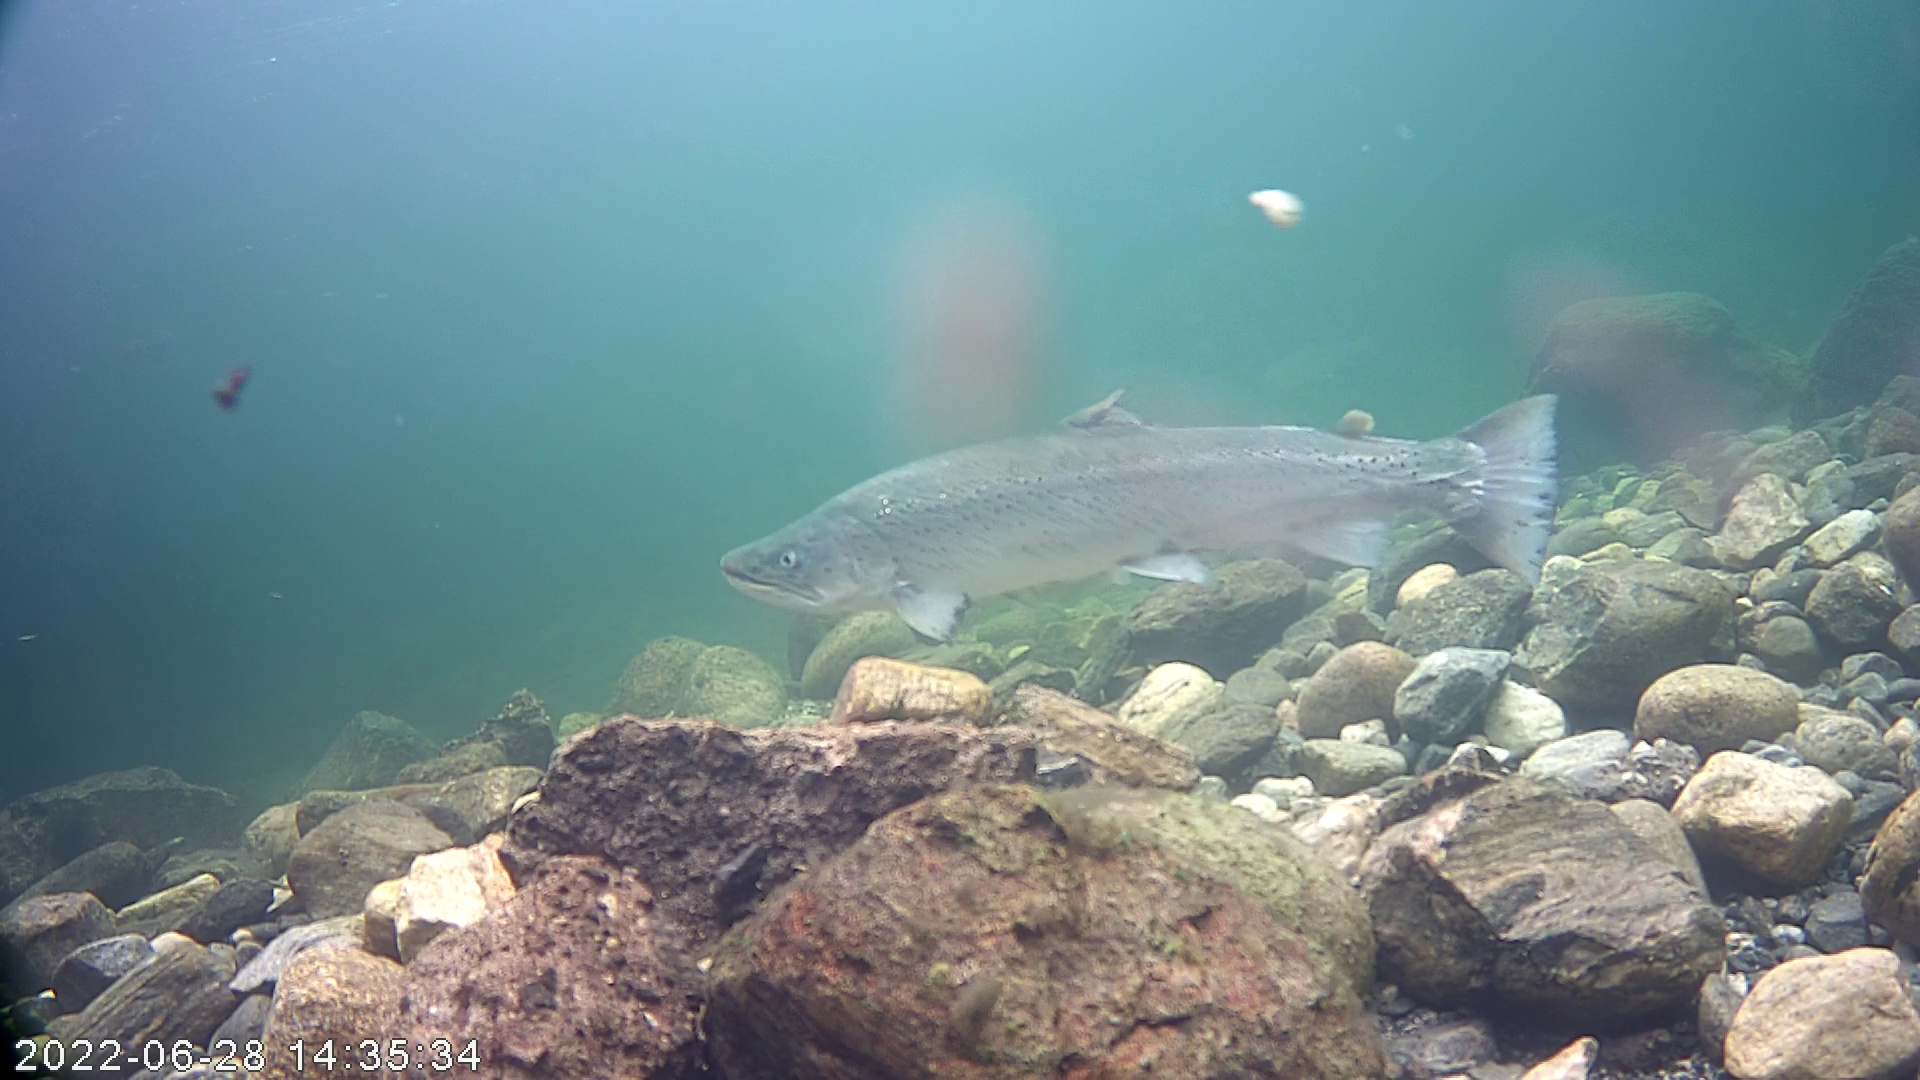salmon: (698, 281, 1586, 696)
